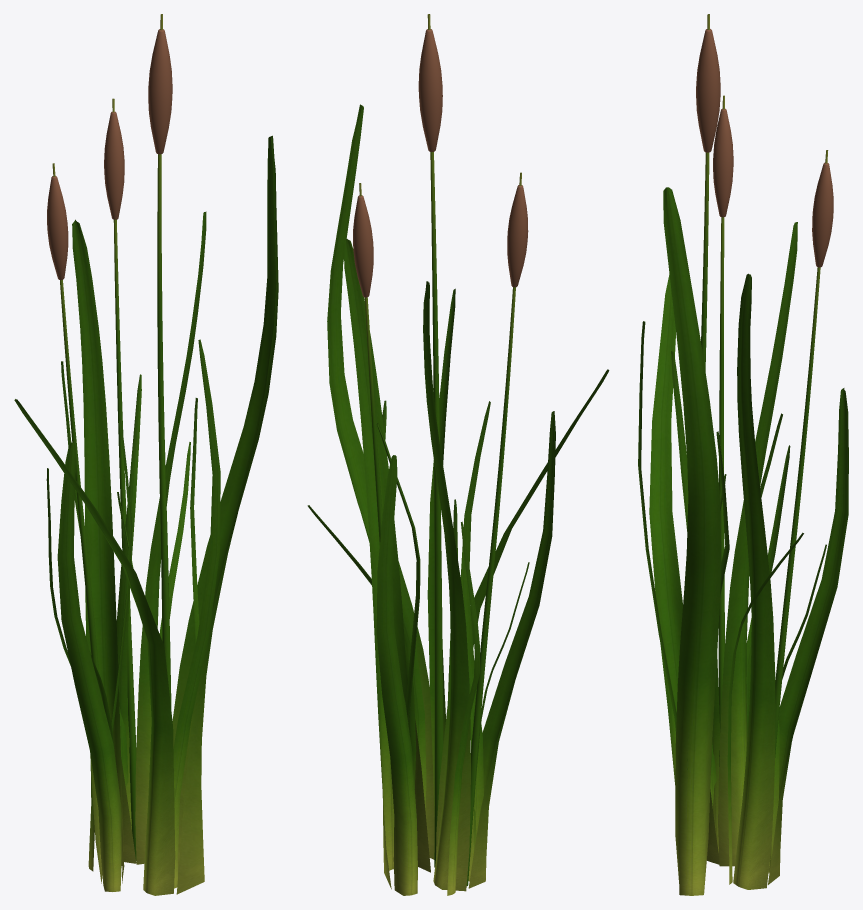
File: underwaterPlants_edit_for_FBX.fbx
3 views of the same model, side by side, from view 1: azimuth 30°, elevation 25°; view 2: azimuth 150°, elevation 25°; view 3: azimuth 270°, elevation 25° (orthographic).
Parts seen in each view (by area): view 1: waterPlants01; view 2: waterPlants01; view 3: waterPlants01.
Part boxes in pixels (bbox=[...]): waterPlants01: bbox=[14, 14, 278, 895]; waterPlants01: bbox=[307, 14, 609, 895]; waterPlants01: bbox=[638, 14, 848, 895].
Bounding box in the file's own units: 559 × 1716 × 376.
